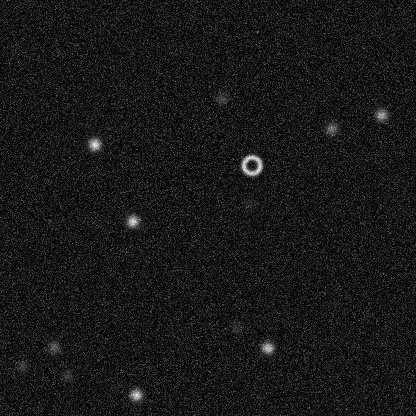Ring: (239, 153, 263, 177)
Spot: (14, 358, 30, 374), (128, 386, 144, 402), (373, 106, 389, 122), (124, 213, 140, 229), (86, 136, 102, 152), (213, 91, 229, 107), (323, 120, 339, 136), (241, 195, 257, 211), (58, 367, 74, 383), (45, 338, 61, 354), (259, 339, 275, 355), (228, 319, 244, 335)
